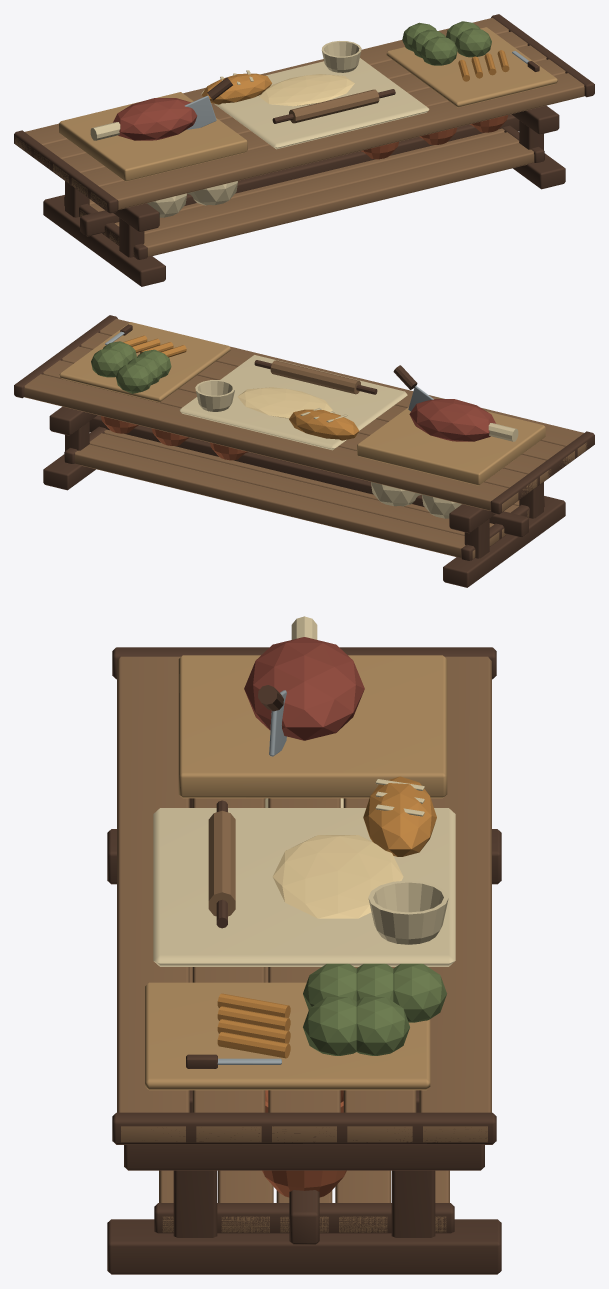
File: feast_preparation.glb
3 views of the same model, one above another, from view 1: azimuth 30°, elevation 25°; view 2: azimuth 150°, elevation 25°; view 3: azimuth 270°, elevation 25° (orthographic). The views are drawn at different scales.
Parts seen in each view (by area): view 1: feast_preparation; view 2: feast_preparation; view 3: feast_preparation.
Boxes of the visible parts, x1,y1,x2,y2 form: feast_preparation: [14, 14, 594, 286]; feast_preparation: [14, 315, 594, 587]; feast_preparation: [107, 616, 501, 1274].
Bounding box in the file's own units: 6.7 × 1.99 × 2.35.
